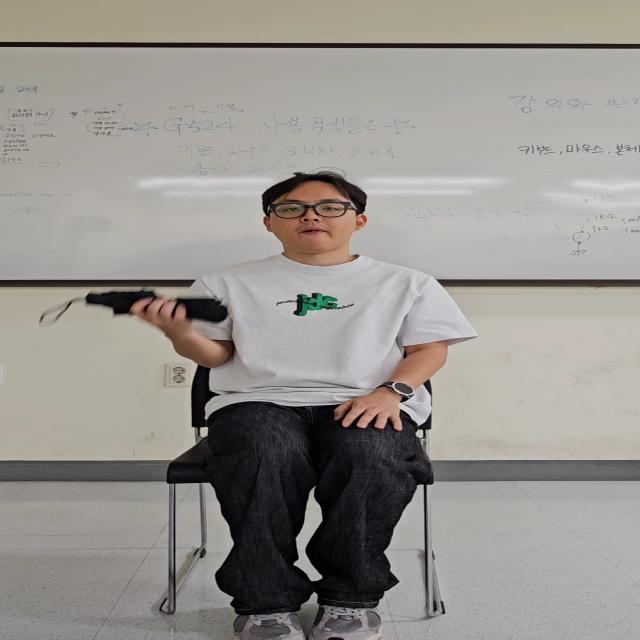curl: (125, 267, 251, 383)
